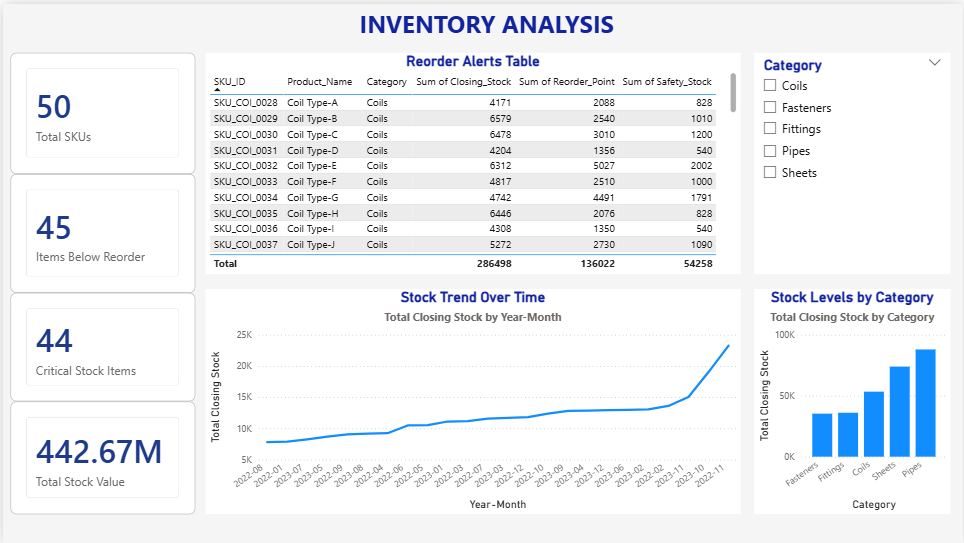

The page's visual inventory and layout, read from the dashboard file:
{"tool":"powerbi","page":{"name":"Inventory Analysis","canvas":[1280,720],"ordinal":1},"visuals":[{"type":"textbox","box":[10,0,1270,53.3],"z":0},{"type":"cardVisual","fields":{"Data":["_Measures.Total SKUs"]},"box":[10,65,246.7,161.7],"z":1000},{"type":"cardVisual","fields":{"Data":["_Measures.Total Stock Value"]},"box":[10,530,246.7,150],"z":2000},{"type":"cardVisual","fields":{"Data":["_Measures.Items Below Reorder"]},"box":[10,226.7,246.7,158.3],"z":3000},{"type":"cardVisual","fields":{"Data":["_Measures.Critical Stock Items"]},"box":[10,385,246.7,145],"z":4000},{"type":"clusteredColumnChart","title":"Stock Levels by Category","fields":{"Category":["inventory_data.Category"],"Y":["_Measures.Total Closing Stock"]},"box":[1001.7,380,261.7,300],"z":5000},{"type":"tableEx","title":"Reorder Alerts Table","fields":{"Values":["inventory_data.SKU_ID","inventory_data.Product_Name","inventory_data.Category","Sum(inventory_data.Closing_Stock)","Sum(inventory_data.Reorder_Point)","Sum(inventory_data.Safety_Stock)"]},"box":[270,65,713.3,295],"z":6000},{"type":"lineChart","title":"Stock Trend Over Time","fields":{"Category":["Date Table.Year-Month"],"Y":["_Measures.Total Closing Stock"]},"box":[270,380,713.3,300],"z":7000},{"type":"slicer","fields":{"Values":["inventory_data.Category"]},"box":[1001.7,65,261.7,295],"z":8000}]}

Visuals, with their boxes in screenshot pixels (x1, y1, x2, y2), scaled from the page's 1280x720 canvas onto the 964x543 screenshot:
textbox: x1=8 y1=0 x2=963 y2=40
cardVisual - _Measures.Total SKUs: x1=8 y1=49 x2=193 y2=171
cardVisual - _Measures.Total Stock Value: x1=8 y1=400 x2=193 y2=513
cardVisual - _Measures.Items Below Reorder: x1=8 y1=171 x2=193 y2=290
cardVisual - _Measures.Critical Stock Items: x1=8 y1=290 x2=193 y2=400
"Stock Levels by Category" clusteredColumnChart: x1=754 y1=287 x2=951 y2=513
"Reorder Alerts Table" tableEx: x1=203 y1=49 x2=741 y2=272
"Stock Trend Over Time" lineChart: x1=203 y1=287 x2=741 y2=513
slicer - inventory_data.Category: x1=754 y1=49 x2=951 y2=272
